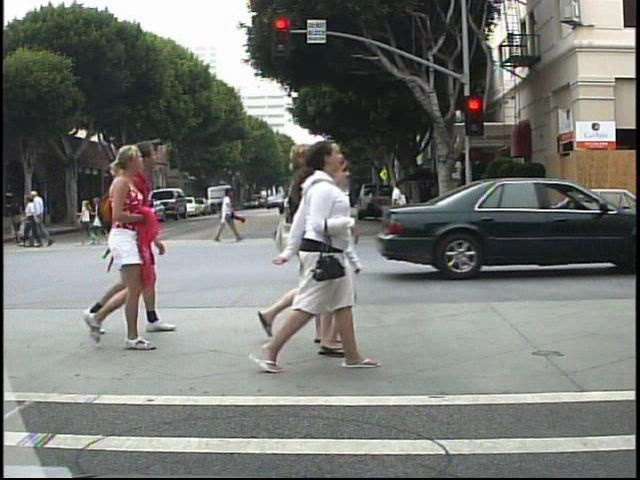person: (73, 146, 167, 355), (284, 136, 361, 377), (308, 159, 385, 371), (244, 146, 319, 355), (126, 139, 179, 337), (387, 177, 415, 240), (215, 184, 239, 248), (34, 185, 56, 251), (277, 185, 299, 243), (21, 196, 44, 251), (361, 187, 377, 223)
